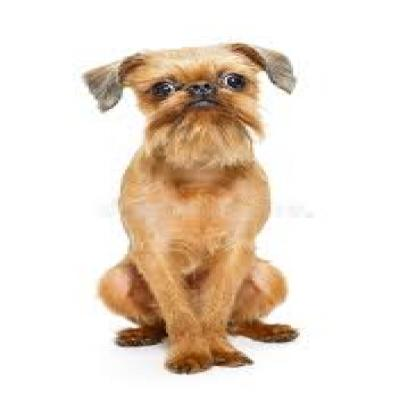Griffon Bruxellois: (43, 23, 326, 372)
